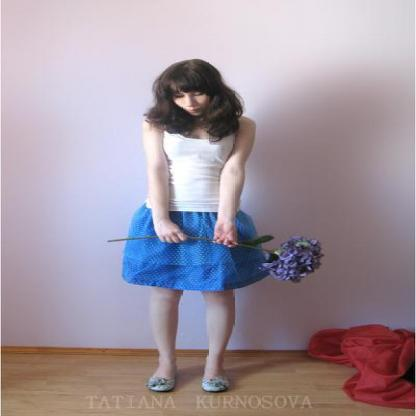shirt: (164, 132, 242, 211)
shoe: (148, 371, 236, 395)
skirt: (108, 207, 274, 290)
